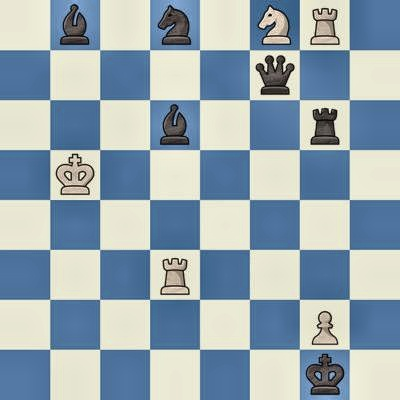black-bishop: (50, 0, 100, 50), (150, 100, 200, 150)
black-king: (300, 350, 350, 400)
black-knight: (150, 0, 200, 50)
black-queen: (250, 50, 300, 100)
black-rook: (300, 100, 350, 150)
white-king: (50, 150, 100, 200)
white-knight: (250, 0, 300, 50)
white-pawn: (300, 300, 350, 350)
white-rook: (300, 0, 350, 50), (150, 250, 200, 300)
